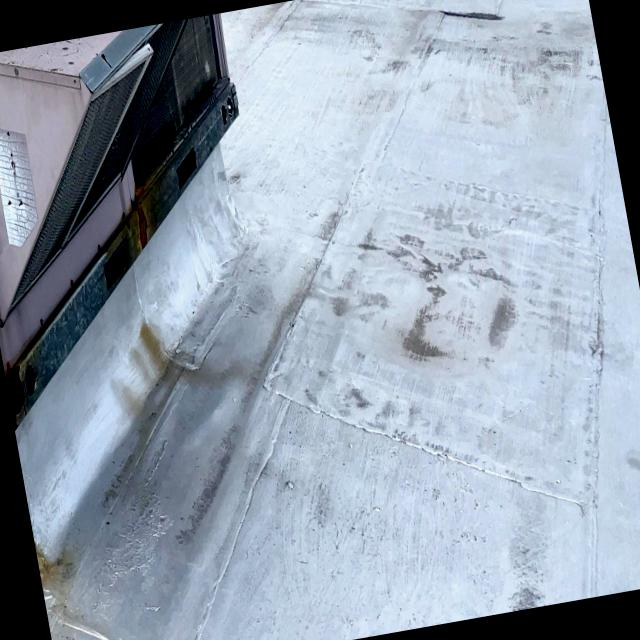RTU: (0, 9, 305, 453)
